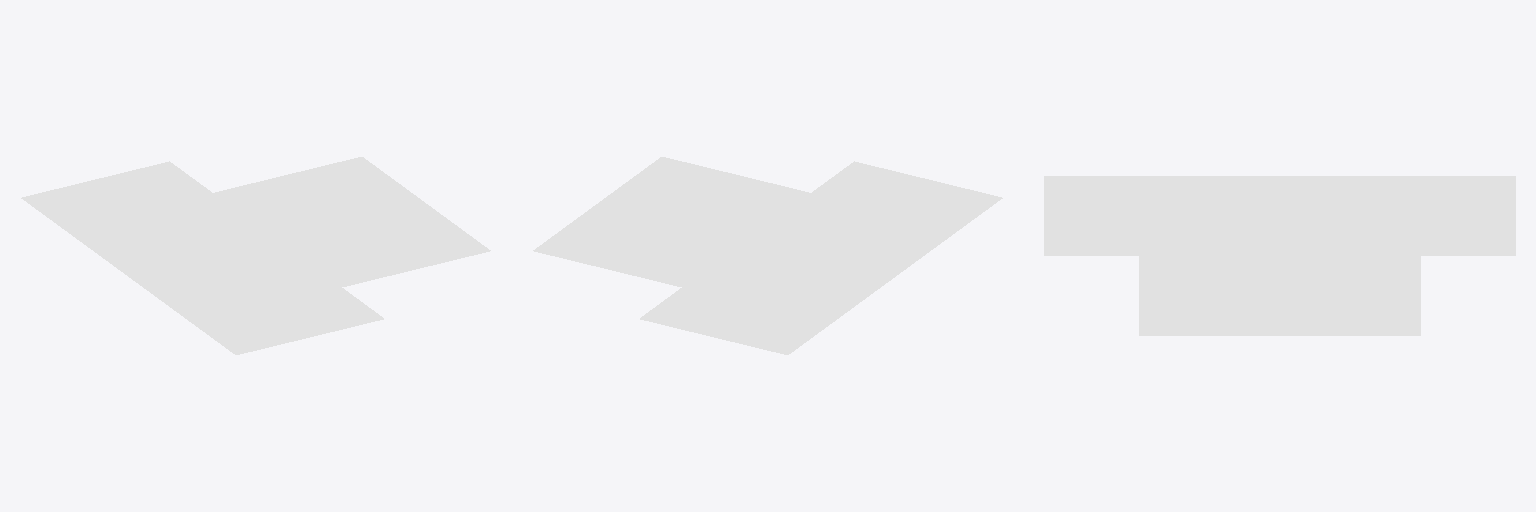
The robot description file, URDF, robot "plane":
<?xml version="0.0" ?>
<robot name="plane">
  <link name="planeLink">
  <contact>
      <lateral_friction value="1"/>
  </contact>
    <inertial>
      <origin rpy="0 0 0" xyz="0 0 0"/>
       <mass value=".0"/>
       <inertia ixx="0" ixy="0" ixz="0" iyy="0" iyz="0" izz="0"/>
    </inertial>
    <visual>
      <origin rpy="0 0 0" xyz="0 0 0"/>
      <geometry>
				<mesh filename="flicker1/out/plane.obj" scale="1 1 1"/>
      </geometry>
       <material name="white">
        <color rgba="1 1 1 1"/>
      </material>
    </visual>
    <visual>
      <origin rpy="0 0 0" xyz="0 30 0"/>
      <geometry>
				<mesh filename="flicker1/out/plane.obj" scale="1 1 1"/>
      </geometry>
       <material name="white">
        <color rgba="1 1 1 1"/>
      </material>
    </visual>
    <visual>
      <origin rpy="0 0 0" xyz="30 30 0"/>
      <geometry>
				<mesh filename="flicker1/out/plane.obj" scale="1 1 1"/>
      </geometry>
       <material name="white">
        <color rgba="1 1 1 1"/>
      </material>
    </visual>
    <visual>
      <origin rpy="0 0 0" xyz="30 0 0"/>
      <geometry>
				<mesh filename="flicker1/out/plane.obj" scale="1 1 1"/>
      </geometry>
       <material name="white">
        <color rgba="1 1 1 1"/>
      </material>
    </visual>
    <visual>
      <origin rpy="0 0 0" xyz="30 -30 0"/>
      <geometry>
				<mesh filename="flicker1/out/plane.obj" scale="1 1 1"/>
      </geometry>
       <material name="white">
        <color rgba="1 1 1 1"/>
      </material>
    </visual>
    <visual>
      <origin rpy="0 0 0" xyz="0 -30 0"/>
      <geometry>
				<mesh filename="flicker1/out/plane.obj" scale="1 1 1"/>
      </geometry>
       <material name="white">
        <color rgba="1 1 1 1"/>
      </material>
    </visual>
    <visual>
      <origin rpy="0 0 0" xyz="-30 -30 0"/>
      <geometry>
				<mesh filename="flicker1/out/plane.obj" scale="1 1 1"/>
      </geometry>
       <material name="white">
        <color rgba="1 1 1 1"/>
      </material>
    </visual>
    <visual>
      <origin rpy="0 0 0" xyz="-30 0 0"/>
      <geometry>
				<mesh filename="flicker1/out/plane.obj" scale="1 1 1"/>
      </geometry>
       <material name="white">
        <color rgba="1 1 1 1"/>
      </material>
    </visual>
    <visual>
      <origin rpy="0 0 0" xyz="-30 30 0"/>
      <geometry>
				<mesh filename="flicker1/out/plane.obj" scale="1 1 1"/>
      </geometry>
       <material name="white">
        <color rgba="1 1 1 1"/>
      </material>
    </visual>
    <visual>
      <origin rpy="0 0 0" xyz="-60 -60 0"/>
      <geometry>
				<mesh filename="flicker1/out/plane.obj" scale="1 1 1"/>
      </geometry>
       <material name="white">
        <color rgba="1 1 1 1"/>
      </material>
    </visual>
    <visual>
      <origin rpy="0 0 0" xyz="-60 -30 0"/>
      <geometry>
				<mesh filename="flicker1/out/plane.obj" scale="1 1 1"/>
      </geometry>
       <material name="white">
        <color rgba="1 1 1 1"/>
      </material>
    </visual>
    <visual>
      <origin rpy="0 0 0" xyz="-60 0 0"/>
      <geometry>
				<mesh filename="flicker1/out/plane.obj" scale="1 1 1"/>
      </geometry>
       <material name="white">
        <color rgba="1 1 1 1"/>
      </material>
    </visual>
    <visual>
      <origin rpy="0 0 0" xyz="-60 30 0"/>
      <geometry>
				<mesh filename="flicker1/out/plane.obj" scale="1 1 1"/>
      </geometry>
       <material name="white">
        <color rgba="1 1 1 1"/>
      </material>
    </visual>
    <visual>
      <origin rpy="0 0 0" xyz="-60 60 0"/>
      <geometry>
				<mesh filename="flicker1/out/plane.obj" scale="1 1 1"/>
      </geometry>
       <material name="white">
        <color rgba="1 1 1 1"/>
      </material>
    </visual>
    <visual>
      <origin rpy="0 0 0" xyz="-30 60 0"/>
      <geometry>
				<mesh filename="flicker1/out/plane.obj" scale="1 1 1"/>
      </geometry>
       <material name="white">
        <color rgba="1 1 1 1"/>
      </material>
    </visual>
    <visual>
      <origin rpy="0 0 0" xyz="-30 -60 0"/>
      <geometry>
				<mesh filename="flicker1/out/plane.obj" scale="1 1 1"/>
      </geometry>
       <material name="white">
        <color rgba="1 1 1 1"/>
      </material>
    </visual>
    <collision>
      <origin rpy="0 0 0" xyz="0 0 0"/>
      <geometry>
	 	<plane normal="0 0 1"/>
      </geometry>
    </collision>
  </link>
</robot>

--- Facts derived from the render (not from the file) ---
3 views of the same robot in one strip: view 1: azimuth 30°, elevation 25°; view 2: azimuth 150°, elevation 25°; view 3: azimuth 270°, elevation 25° (orthographic).
Model plane with 1 links and 0 joints (none), rooted at planeLink, posed all joints at 0.
Visible links, largest first — view 1: planeLink; view 2: planeLink; view 3: planeLink.
Link boxes in pixels (x1,y1,x2,y2): planeLink: [21, 157, 490, 354]; planeLink: [533, 157, 1002, 354]; planeLink: [1044, 176, 1515, 335].
Bounding box of the posed robot: 120 × 150 × 0 m (x, y, z).
Meshes: 1 distinct files referenced, 16 mesh visuals loaded (1 OBJ).
